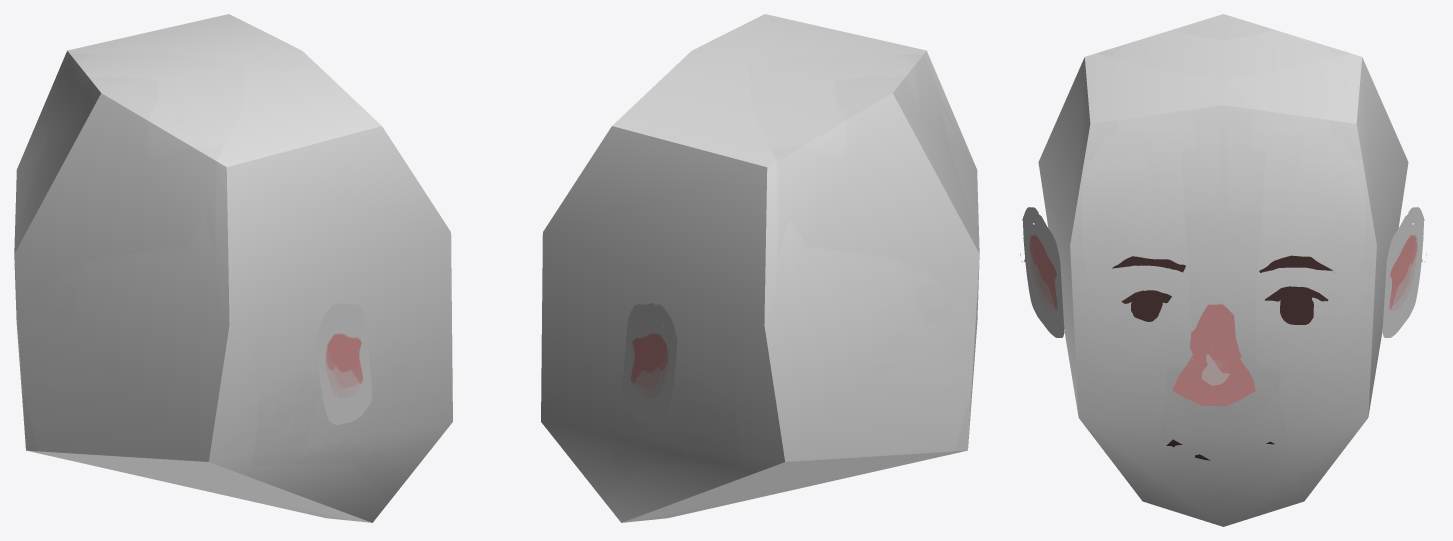
The model's file is HED.fbx.
3 views of the same model, side by side, from view 1: azimuth 30°, elevation 25°; view 2: azimuth 150°, elevation 25°; view 3: azimuth 270°, elevation 25° (orthographic). The views are drawn at different scales.
Parts seen in each view (by area): view 1: head, ears; view 2: head, ears; view 3: head, ears, nose, eyes.
Boxes of the visible parts, x1,y1,x2,y2 form: head: (14,14,452,522); ears: (314,303,372,424); head: (541,14,979,522); ears: (621,303,679,424); head: (1038,14,1408,526); ears: (1020,207,1426,337); nose: (1172,304,1255,406); eyes: (1112,255,1334,324).
Size of the model in its own units: 1.1 by 1.29 by 1.21.
